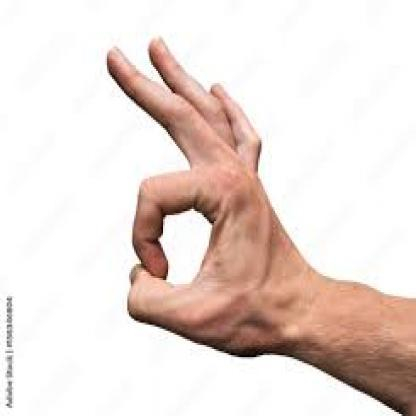ok: (101, 32, 288, 361)
